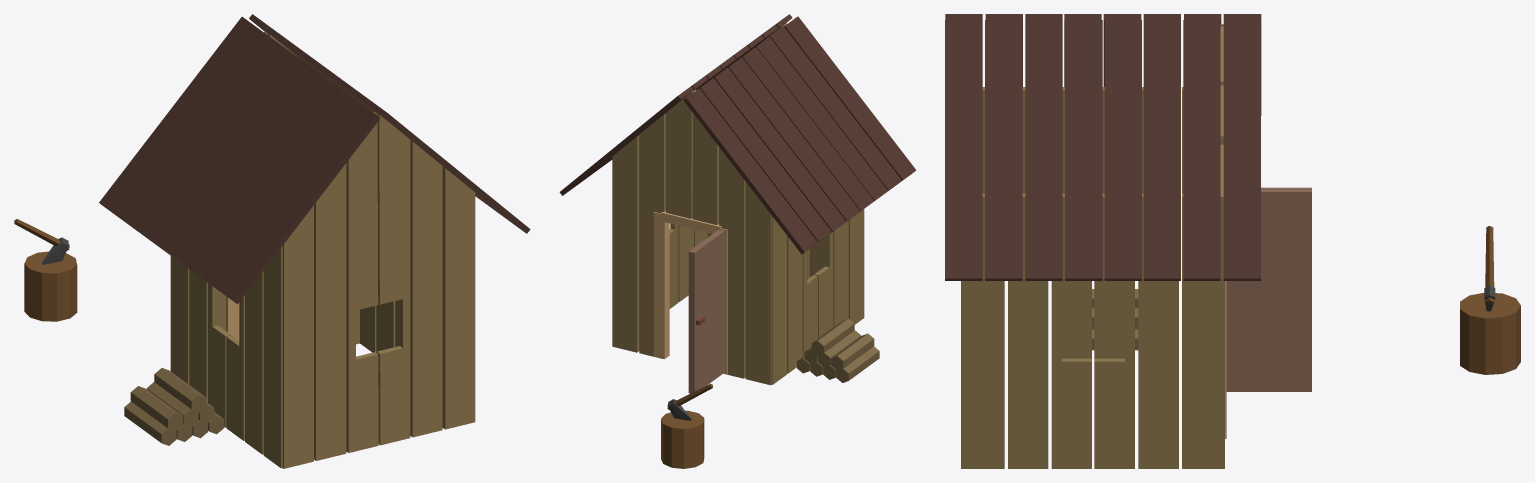
File: Holzfäller_clear.fbx
3 renders of one model, left to right at view 1: azimuth 30°, elevation 25°; view 2: azimuth 150°, elevation 25°; view 3: azimuth 270°, elevation 25°, orthographic. The views are drawn at different scales.
Visible parts, largest first — view 1: Cube.001; view 2: Cube.001; view 3: Cube.001.
Boxes of the visible parts, box(x1,y1,x2,y2) form: Cube.001: box(14, 14, 530, 468); Cube.001: box(559, 14, 916, 468); Cube.001: box(945, 14, 1520, 468).
Size of the model in its own units: 216 by 229 by 297.
